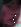without_mask: (1, 2, 21, 27)
